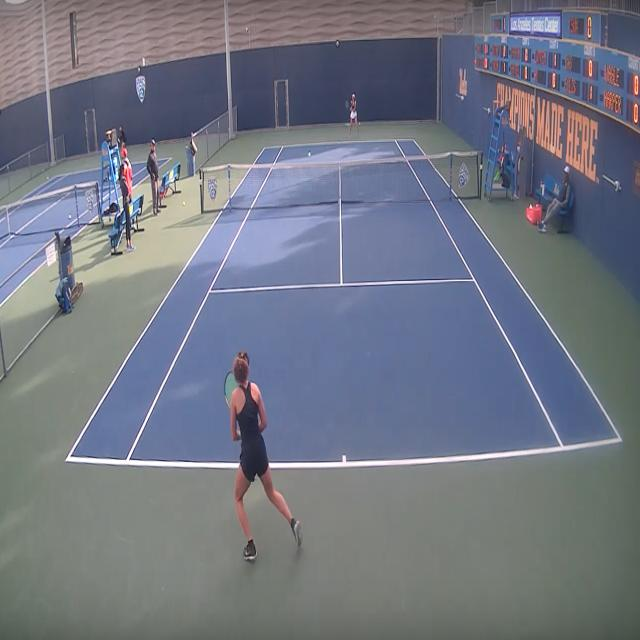ball: (307, 150, 312, 159), (182, 199, 186, 207), (358, 121, 361, 127), (46, 176, 49, 180), (69, 214, 71, 219)
